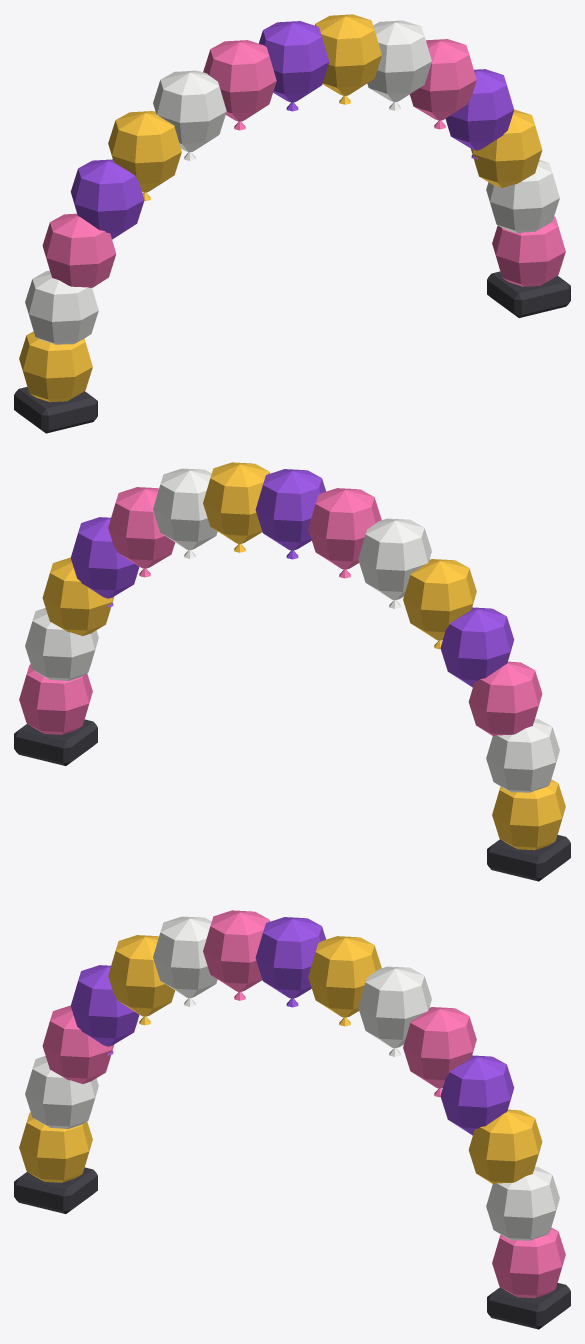
File: BalloonArch.fbx
The picture shows the model from 3 angles, top to bottom: view 1: azimuth 30°, elevation 25°; view 2: azimuth 150°, elevation 25°; view 3: azimuth 330°, elevation 25°; orthographic projection.
Visible parts, largest first — view 1: BalloonArch; view 2: BalloonArch; view 3: BalloonArch.
Part boxes in pixels (x1=…): BalloonArch: x1=14, y1=14, x2=570, y2=433; BalloonArch: x1=14, y1=462, x2=570, y2=881; BalloonArch: x1=14, y1=910, x2=570, y2=1329.
Size of the model in its own units: 11.4 by 6.81 by 1.4.
Materials: 1 (1 with a texture image).
